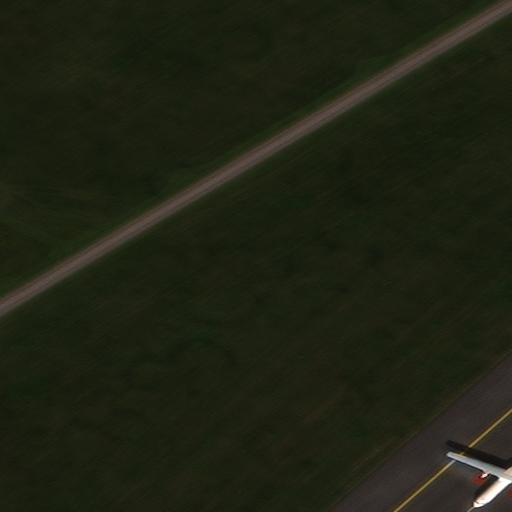Medium Civil Transport: (444, 441, 512, 510)
